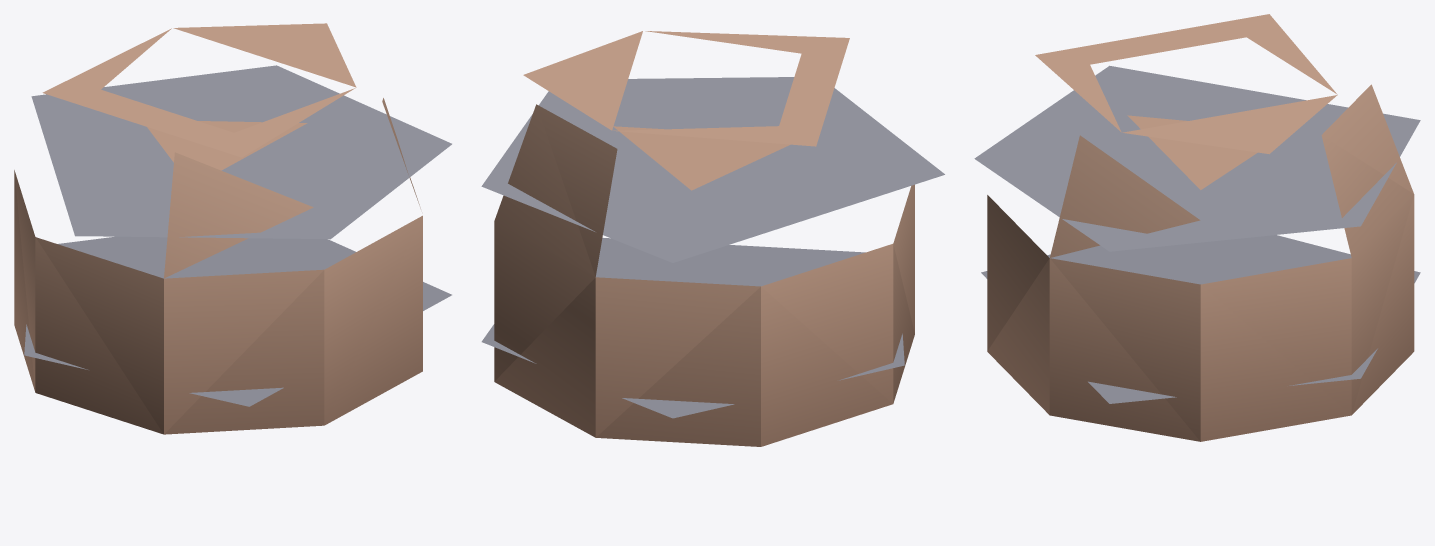
File: barrel.glb
3 views of the same model, side by side, from view 1: azimuth 30°, elevation 25°; view 2: azimuth 150°, elevation 25°; view 3: azimuth 270°, elevation 25° (orthographic). The views are drawn at different scales.
Parts seen in each view (by area): view 1: barrel; view 2: barrel; view 3: barrel.
Part boxes in pixels (x1=…): barrel: x1=14, y1=23, x2=451, y2=434; barrel: x1=481, y1=31, x2=944, y2=446; barrel: x1=974, y1=14, x2=1420, y2=441.
Size of the model in its own units: 0.5102 by 0.4762 by 0.5102.
